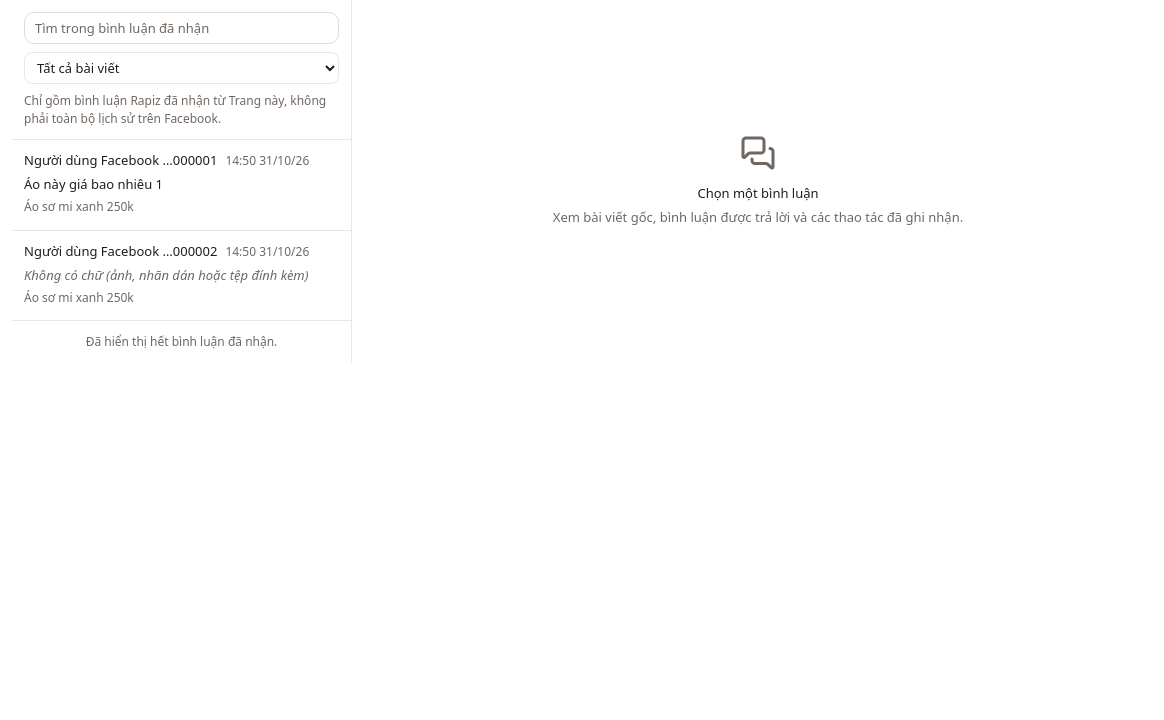
Test: Facebook comments in Inbox › asks before posting contact details publicly, then sends with the version and clears
Click the button with aria-label "Người dùng Facebook …000001: Áo này giá bao nhiêu 1". click: (121, 160)
box: x1=12 y1=140 x2=351 y2=231
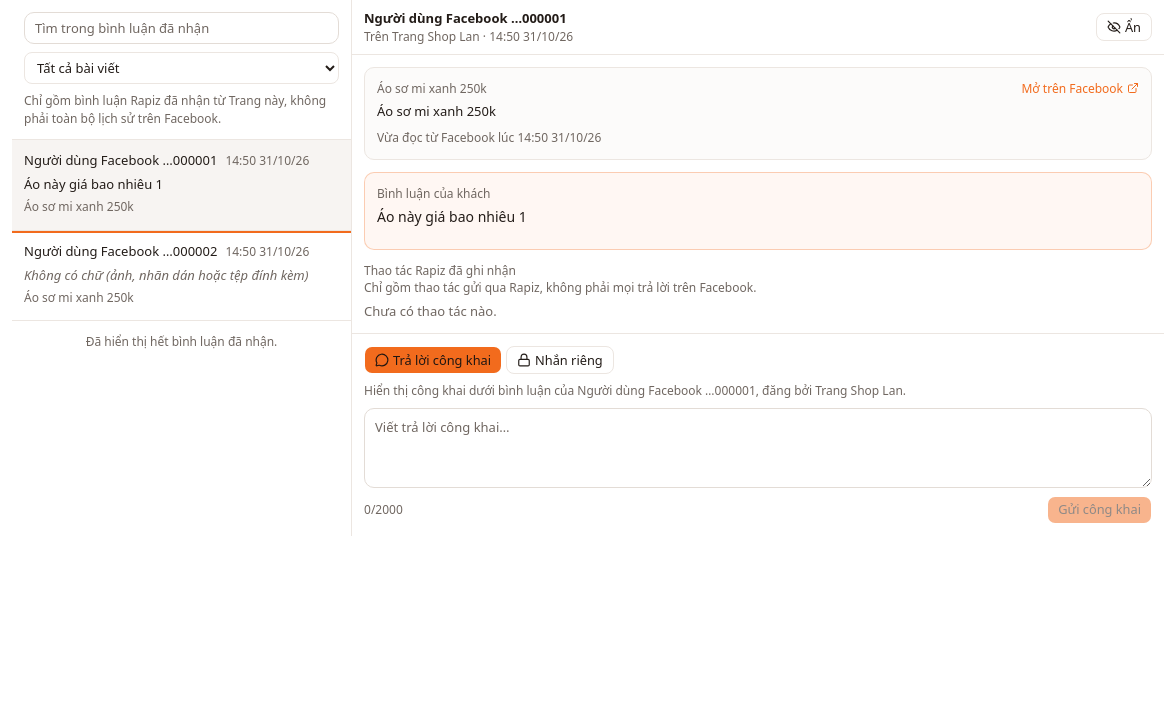
Type "Gọi 0912 345 678 nhé" into the text box. click: (758, 448)
box: x1=364 y1=408 x2=1152 y2=488
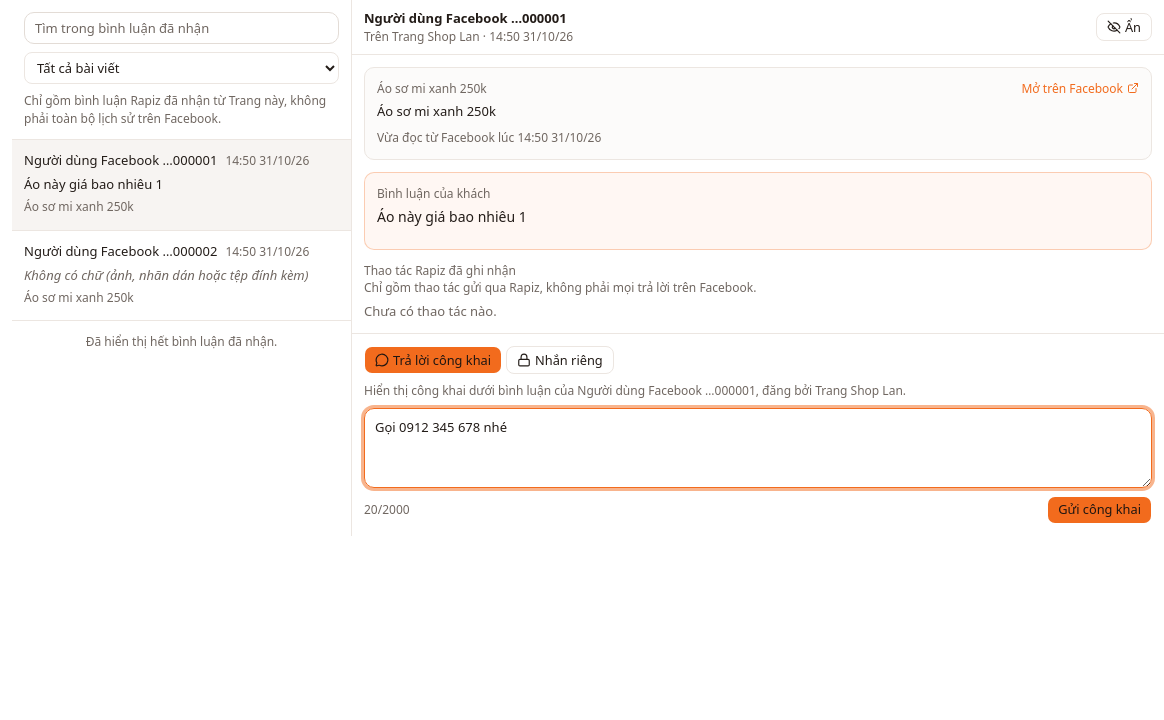
Click the button "Gửi công khai". click: (1100, 510)
box: x1=1047 y1=496 x2=1152 y2=524
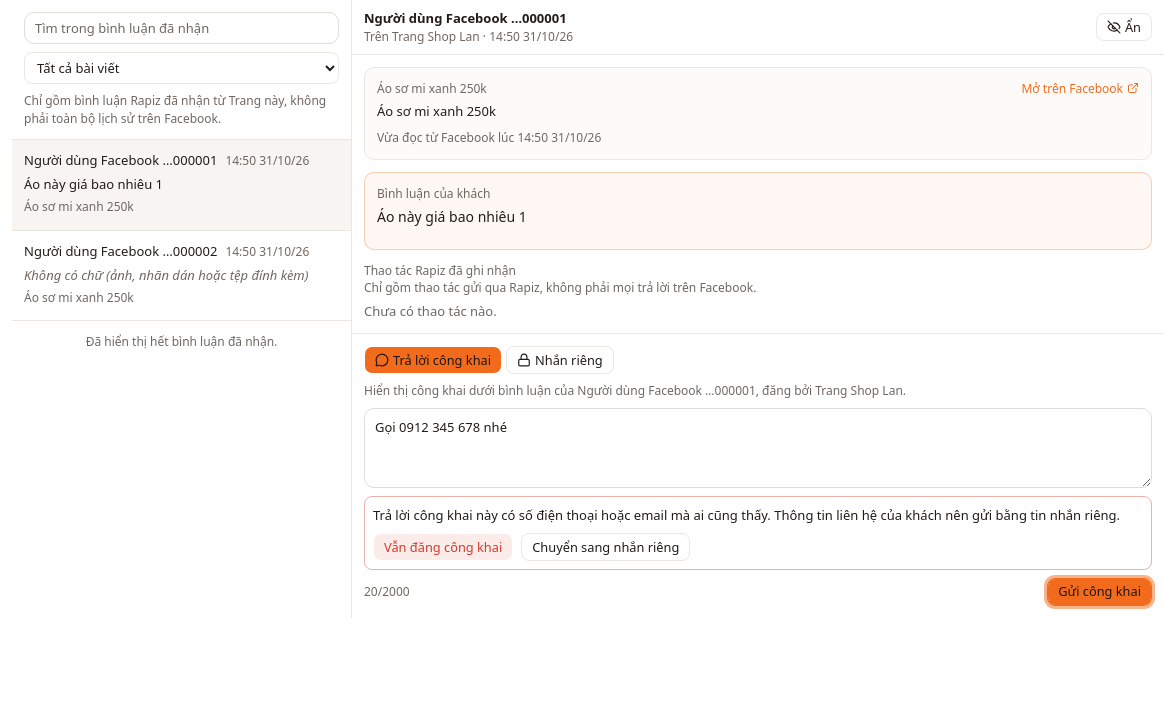
Check: the text "có số điện thoại hoặc email" is shown, box x1=373 y1=506 x2=1120 y2=524
Click the button "Vẫn đăng công khai". click: (443, 547)
box: x1=373 y1=533 x2=513 y2=561
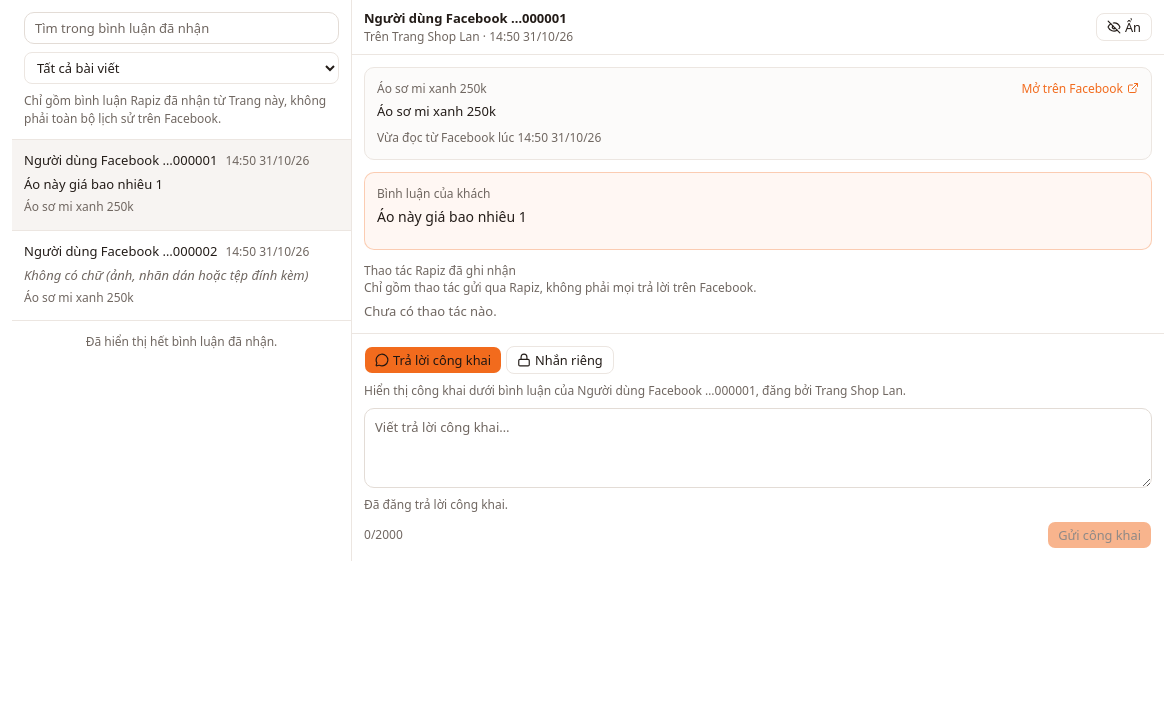
Check: the text box is empty, box x1=364 y1=408 x2=1152 y2=488
Check: the text "Đã đăng trả lời công khai." is shown, box x1=364 y1=496 x2=508 y2=513
